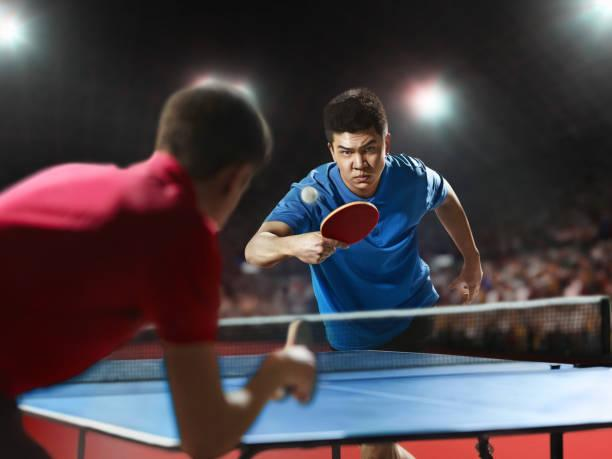ball_pingpong: (301, 186, 319, 203)
